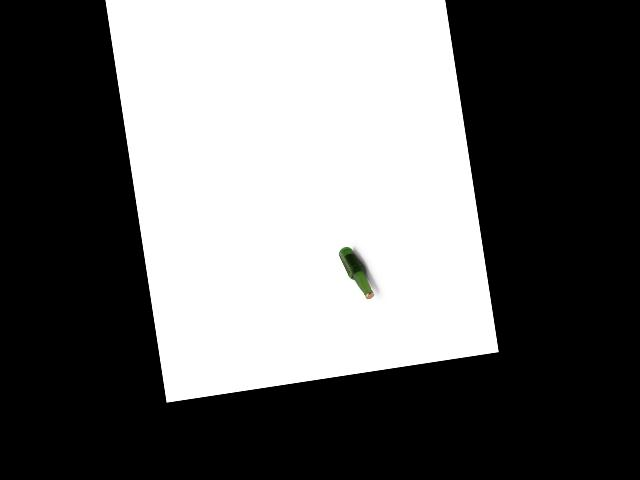beer: (338, 243, 375, 302)
